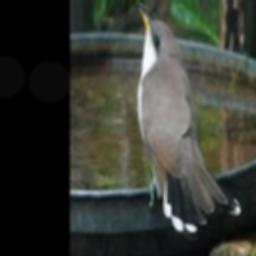Cuckoo: (133, 0, 240, 232)
